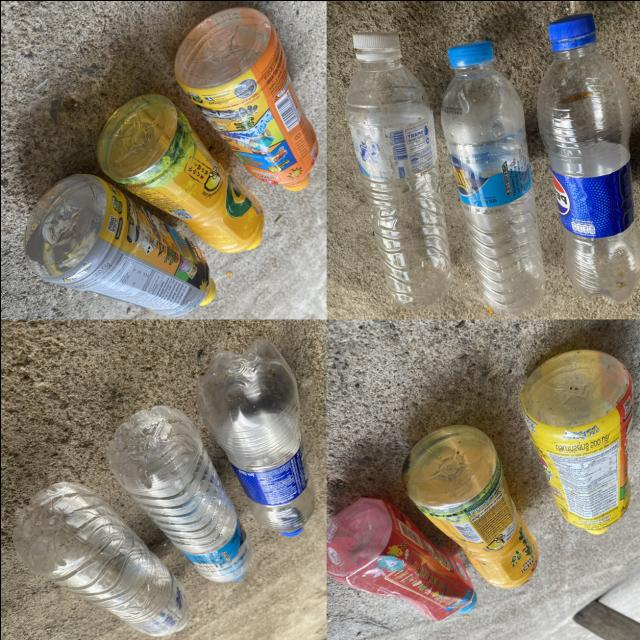plastik: (537, 13, 640, 302), (345, 31, 452, 308), (440, 41, 544, 315), (23, 173, 215, 315), (12, 482, 188, 635), (96, 94, 263, 252), (174, 9, 318, 190), (106, 405, 252, 581), (194, 338, 314, 537), (402, 424, 537, 586), (520, 349, 632, 533), (326, 497, 475, 620)
